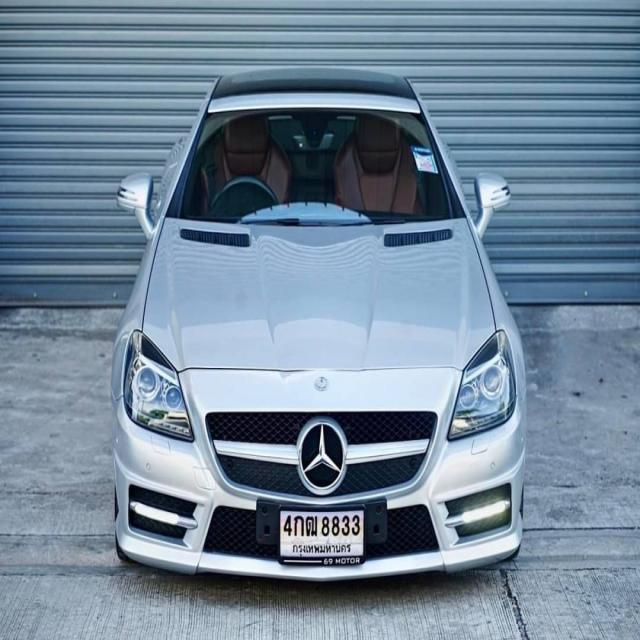license_plate: (276, 505, 366, 568)
